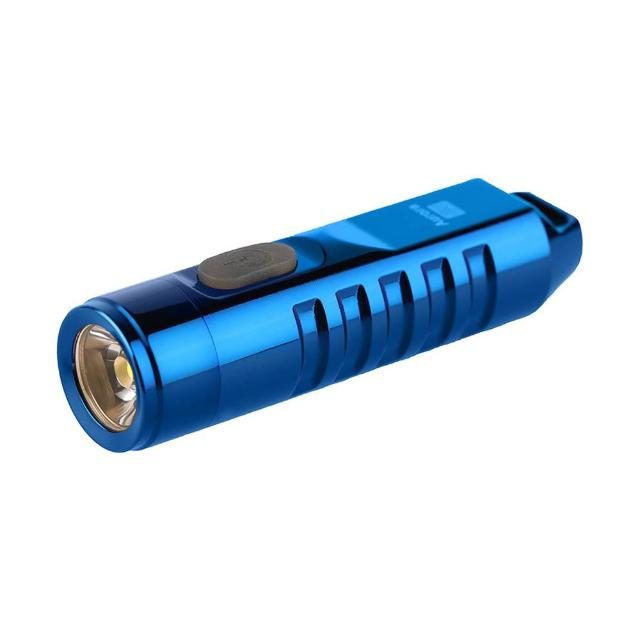Flashlight: (42, 168, 594, 464)
